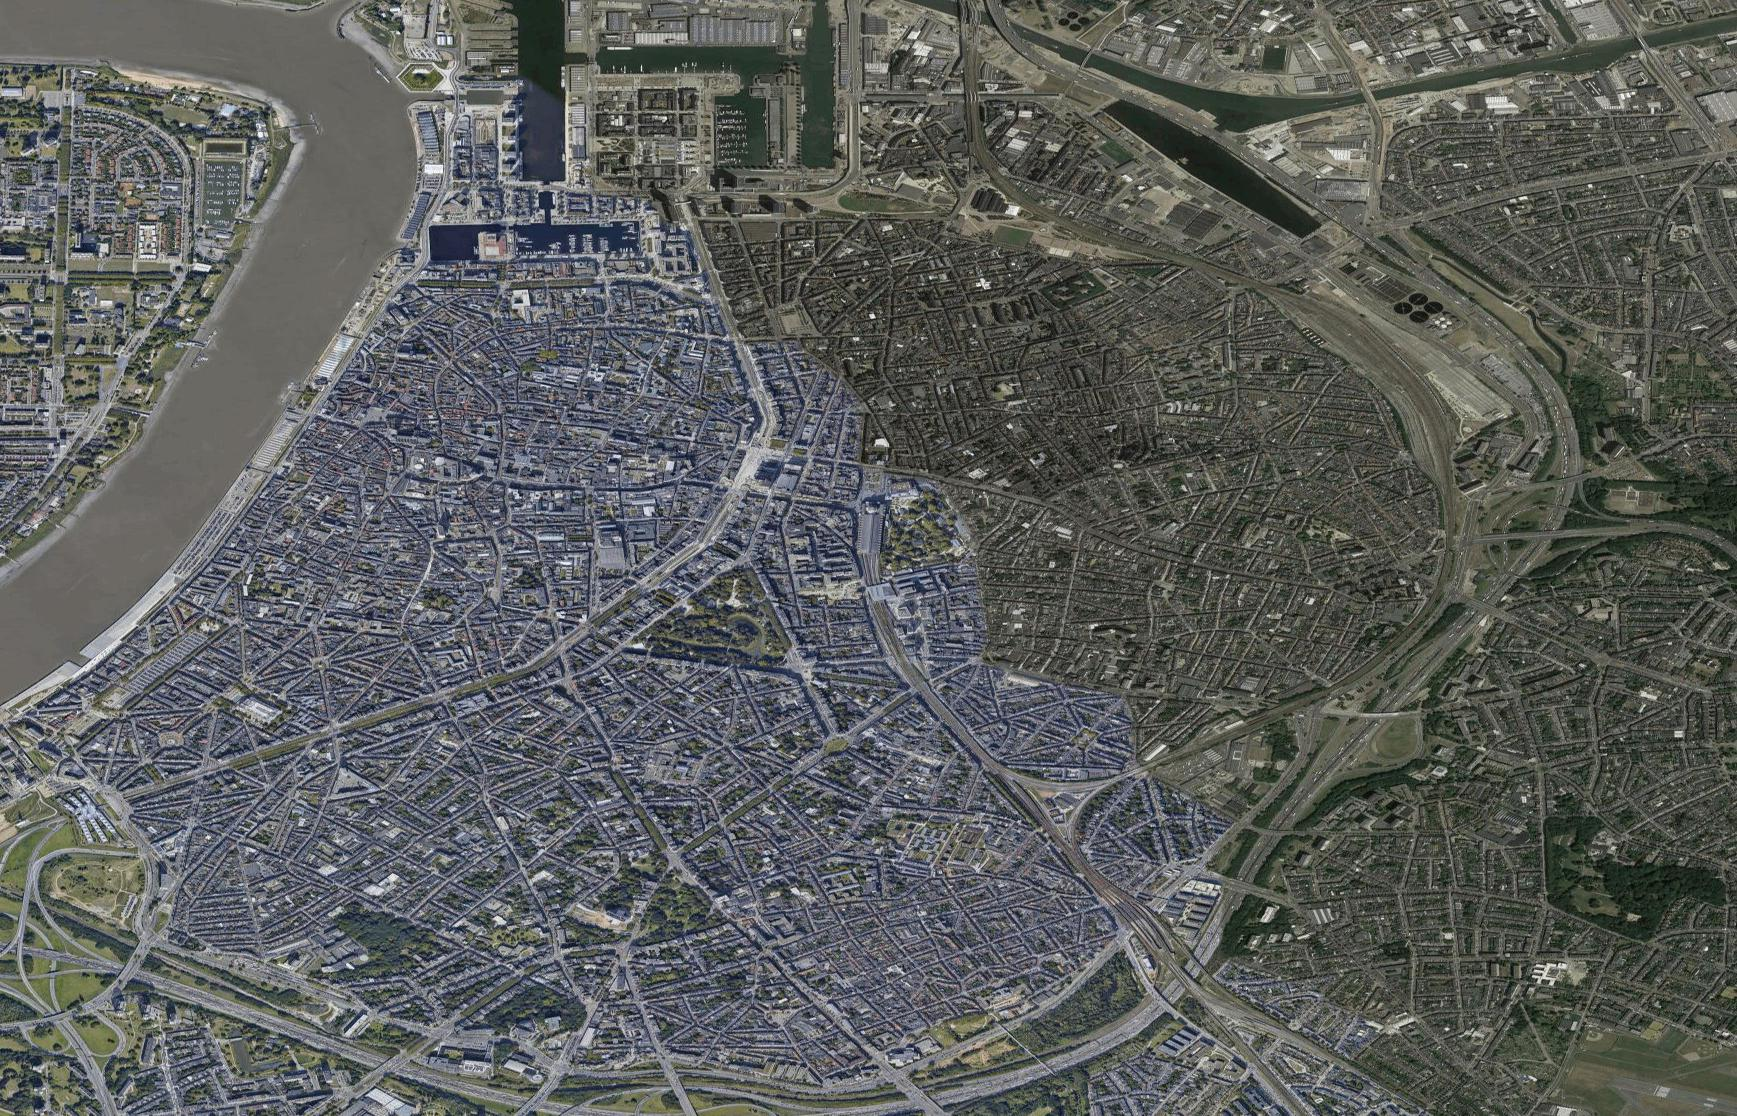industrial: (1132, 18, 1215, 81), (1462, 84, 1553, 127)
motorway: (1414, 581, 1507, 683), (1234, 778, 1320, 885), (1322, 680, 1415, 778), (1507, 469, 1583, 587), (258, 1011, 403, 1070), (1518, 343, 1579, 466), (1418, 267, 1515, 341), (139, 970, 260, 1021), (1320, 205, 1418, 267), (1224, 143, 1320, 205), (1132, 91, 1223, 143), (1050, 1018, 1139, 1070), (957, 1048, 1047, 1100), (1039, 51, 1127, 101), (1139, 960, 1200, 1029), (405, 1065, 518, 1100), (993, 4, 1044, 70), (513, 1081, 615, 1113), (97, 942, 147, 1010), (1194, 891, 1242, 959), (839, 1088, 953, 1115), (728, 1088, 841, 1115)
train_station: (1107, 884, 1180, 959)
